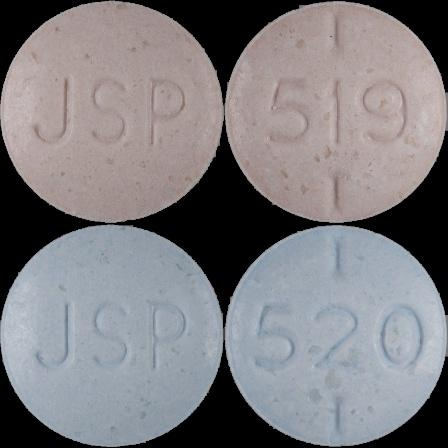58118-1347: (0, 0, 224, 224)
